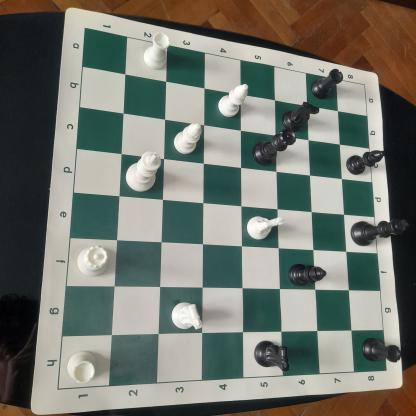black-bishop: (286, 260, 331, 289), (345, 147, 388, 176)
black-king: (348, 216, 410, 249)
black-knight: (250, 336, 294, 374), (280, 98, 322, 135)
black-queen: (250, 124, 298, 170)
black-rook: (361, 334, 404, 368), (311, 68, 344, 103)
white-bishop: (216, 82, 250, 119), (172, 119, 204, 157)
white-king: (122, 150, 163, 193)
white-knight: (245, 211, 286, 243), (170, 300, 206, 334)
white-queen: (76, 242, 109, 278)
white-rook: (64, 348, 100, 386), (140, 29, 172, 71)
